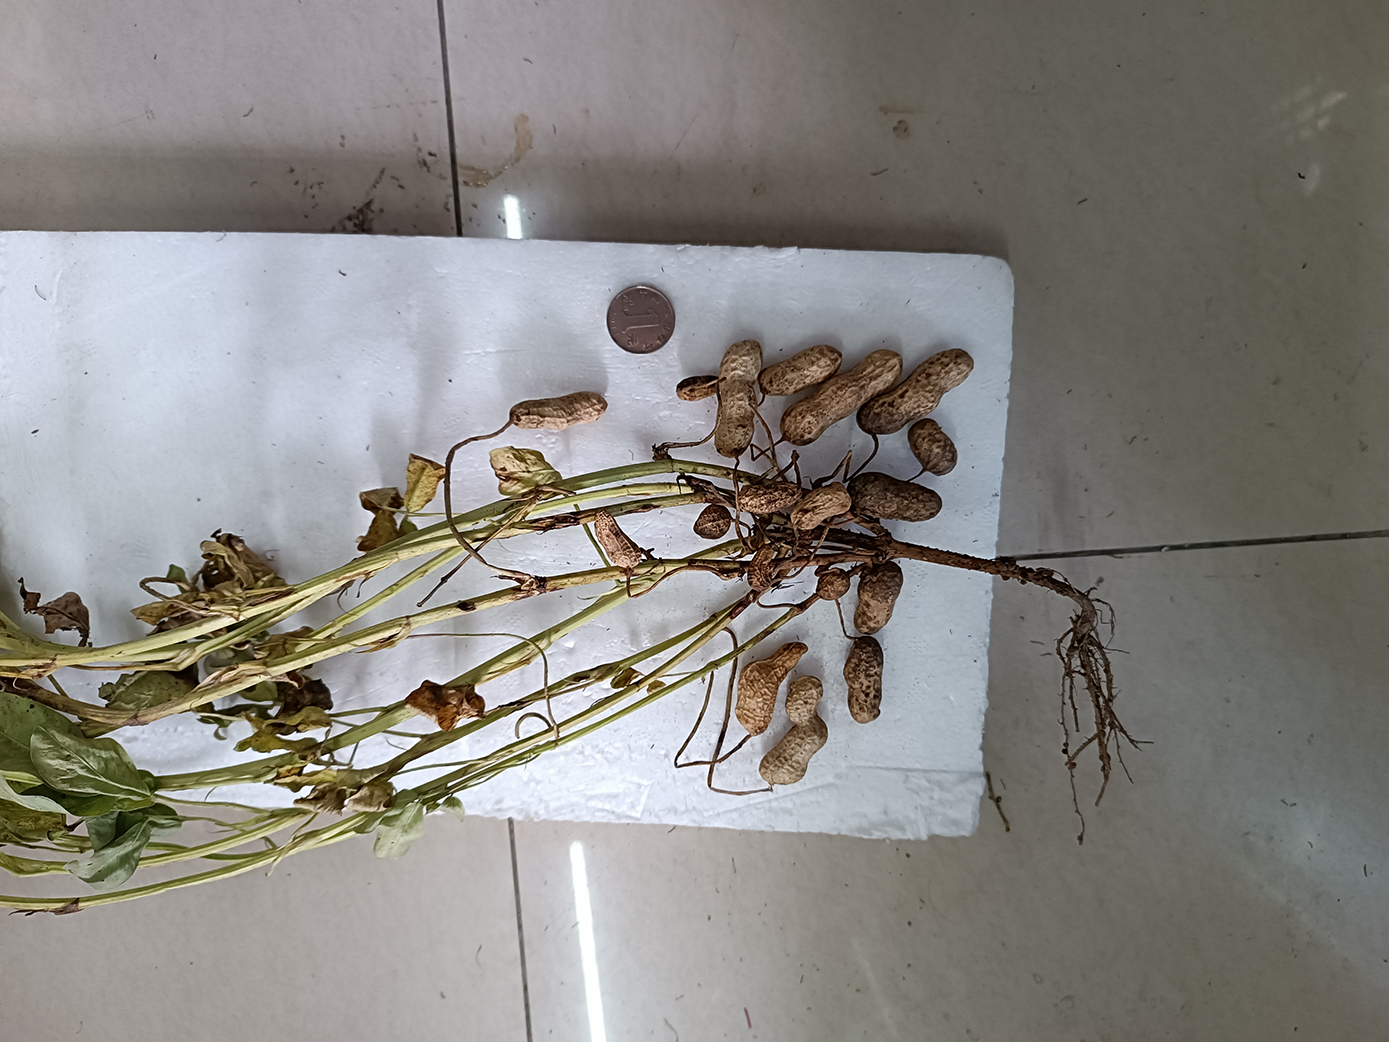h: (779, 348, 900, 444), (857, 348, 974, 436), (759, 676, 827, 785), (736, 641, 808, 736), (713, 341, 763, 459), (760, 344, 844, 396), (508, 392, 609, 432), (854, 560, 905, 634), (843, 637, 882, 725), (791, 481, 852, 530), (594, 511, 643, 571), (737, 482, 801, 516), (694, 505, 732, 542), (812, 568, 850, 604), (676, 375, 721, 400)
l: (847, 472, 944, 523), (908, 422, 958, 476)
